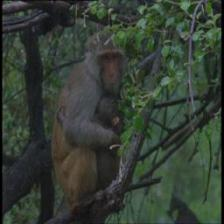monkey: (82, 31, 133, 94), (94, 97, 128, 130)
